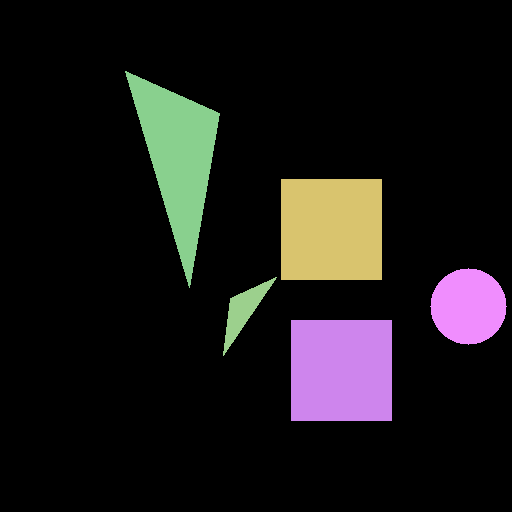circle: (430, 268, 506, 344)
square: (291, 320, 391, 420), (281, 179, 381, 279)
triangle: (125, 71, 219, 287), (223, 277, 276, 355)
